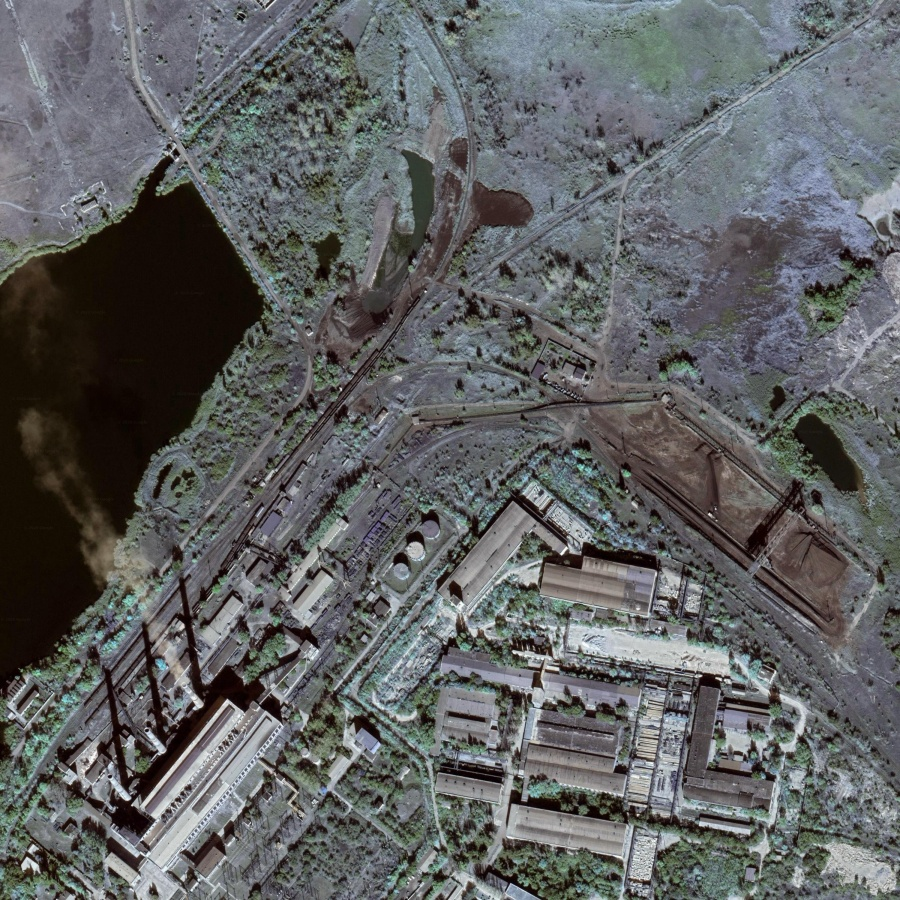PowerPlant: (67, 497, 432, 854), (564, 383, 854, 636)
